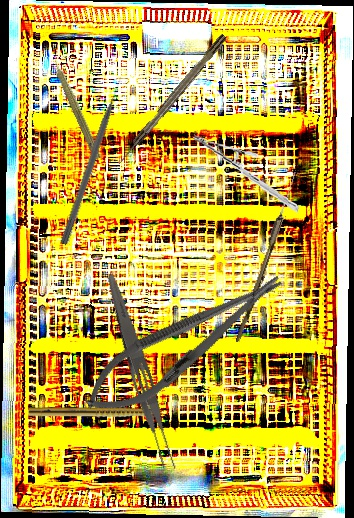Dressing Forceps: (96, 271, 182, 475)
Handpiece: (46, 51, 106, 161), (28, 407, 167, 419)
Hook Surgical: (114, 33, 229, 167)
Needle Holder: (72, 256, 297, 431), (186, 133, 306, 213)
Pusher: (59, 76, 127, 246)
Surgical Spoon: (235, 170, 299, 344)
